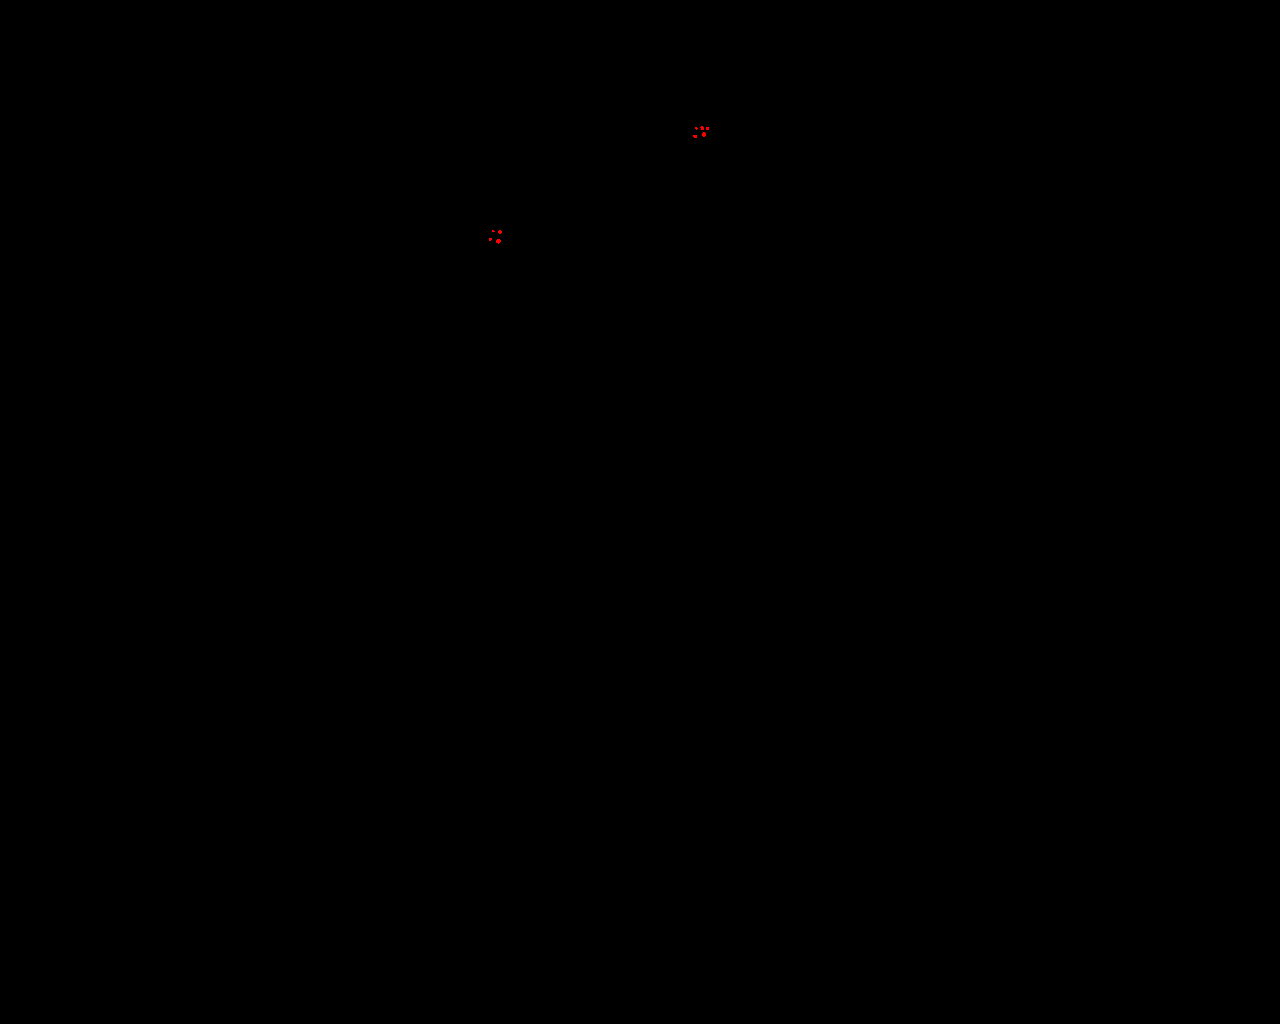Target: (702, 132, 706, 137), (496, 239, 501, 245), (700, 126, 704, 130), (693, 135, 697, 138), (498, 230, 502, 234), (489, 238, 492, 241), (695, 127, 698, 130), (706, 127, 709, 130), (492, 230, 495, 232)
